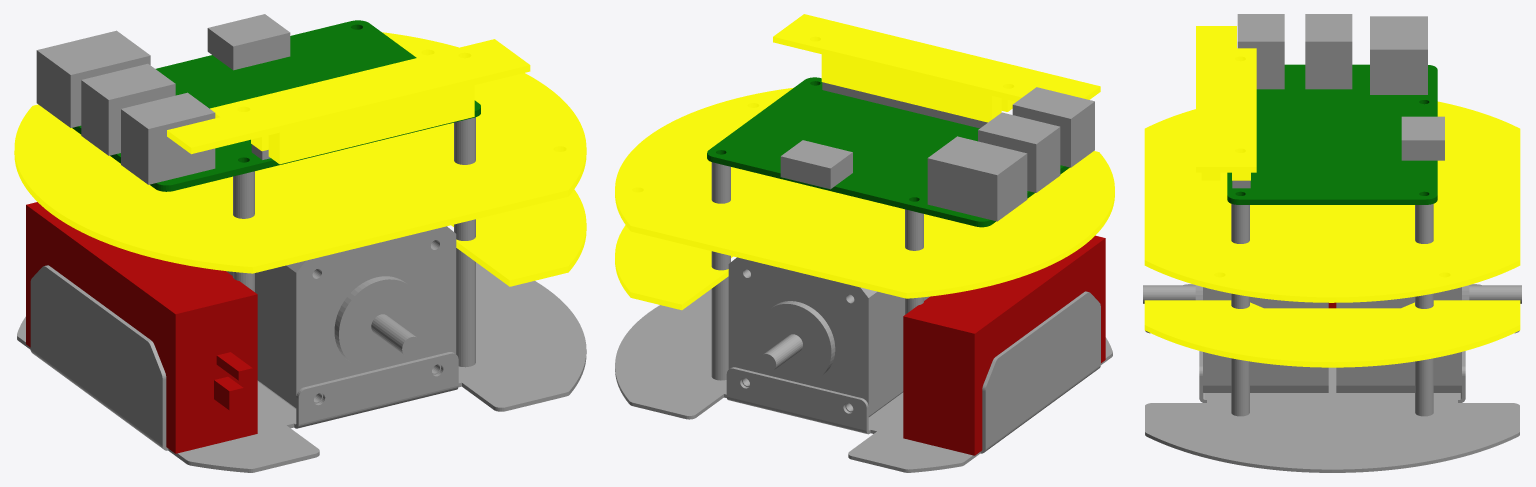
File: yellow_raspimouse_body.dae
3 renders of one model, left to right at view 1: azimuth 30°, elevation 25°; view 2: azimuth 150°, elevation 25°; view 3: azimuth 270°, elevation 25°, orthographic. The views are drawn at different scales.
Parts seen in each view (by area): view 1: RasPiMouse_body_gray, RasPiMouseCircuitMainBoard, RaspberryPiMouseBattery, RasPiMouseCircuitConnectorBoard, RasPiMouse_body_green, RasPiMouseCircuitSensorBoard; view 2: RasPiMouse_body_gray, RasPiMouseCircuitMainBoard, RaspberryPiMouseBattery, RasPiMouse_body_green, RasPiMouseCircuitConnectorBoard, RasPiMouseCircuitSensorBoard; view 3: RasPiMouse_body_gray, RasPiMouseCircuitMainBoard, RasPiMouse_body_green, RasPiMouseCircuitSensorBoard, RasPiMouseCircuitConnectorBoard.
Part boxes in pixels (x1=…): RasPiMouse_body_gray: x1=17, y1=14, x2=586, y2=472; RasPiMouseCircuitMainBoard: x1=14, y1=32, x2=586, y2=273; RaspberryPiMouseBattery: x1=26, y1=202, x2=257, y2=453; RasPiMouseCircuitConnectorBoard: x1=167, y1=39, x2=530, y2=164; RasPiMouse_body_green: x1=72, y1=20, x2=480, y2=191; RasPiMouseCircuitSensorBoard: x1=451, y1=189, x2=586, y2=286; RasPiMouse_body_gray: x1=615, y1=82, x2=1112, y2=472; RasPiMouseCircuitMainBoard: x1=615, y1=87, x2=1114, y2=298; RaspberryPiMouseBattery: x1=903, y1=235, x2=1105, y2=455; RasPiMouse_body_green: x1=707, y1=77, x2=1069, y2=227; RasPiMouseCircuitConnectorBoard: x1=773, y1=14, x2=1100, y2=122; RasPiMouseCircuitSensorBoard: x1=615, y1=225, x2=732, y2=310; RasPiMouse_body_gray: x1=1143, y1=14, x2=1521, y2=472; RasPiMouseCircuitMainBoard: x1=1144, y1=101, x2=1520, y2=302; RasPiMouse_body_green: x1=1227, y1=64, x2=1437, y2=204; RasPiMouseCircuitSensorBoard: x1=1144, y1=300, x2=1520, y2=367; RasPiMouseCircuitConnectorBoard: x1=1196, y1=26, x2=1256, y2=180.
Size of the model in its own units: 0.13 by 0.101 by 0.0793.
